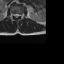CCS_normal: (15, 11, 17, 19)
LFS_stenosis: (19, 12, 21, 17)
LLS_normal: (17, 12, 19, 18)
RFS_normal: (12, 12, 13, 17)
RLS_normal: (13, 12, 15, 18)
